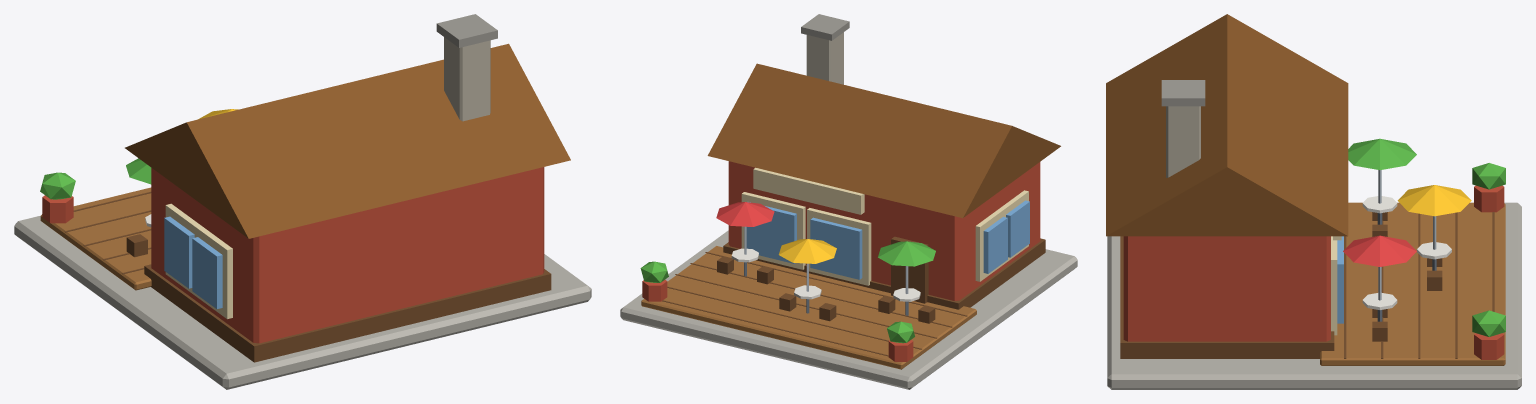
Rendered from kit-cidade-restaurante.glb.
3 renders of one model, left to right at view 1: azimuth 30°, elevation 25°; view 2: azimuth 150°, elevation 25°; view 3: azimuth 270°, elevation 25°, orthographic. The views are drawn at different scales.
Parts seen in each view (by area): view 1: corpo; view 2: corpo; view 3: corpo.
Part boxes in pixels (x1,y1,x2,y2): corpo: [14, 14, 591, 389]; corpo: [620, 14, 1077, 389]; corpo: [1106, 14, 1521, 389].
Size of the model in its own units: 1.9 by 1.32 by 1.91.
